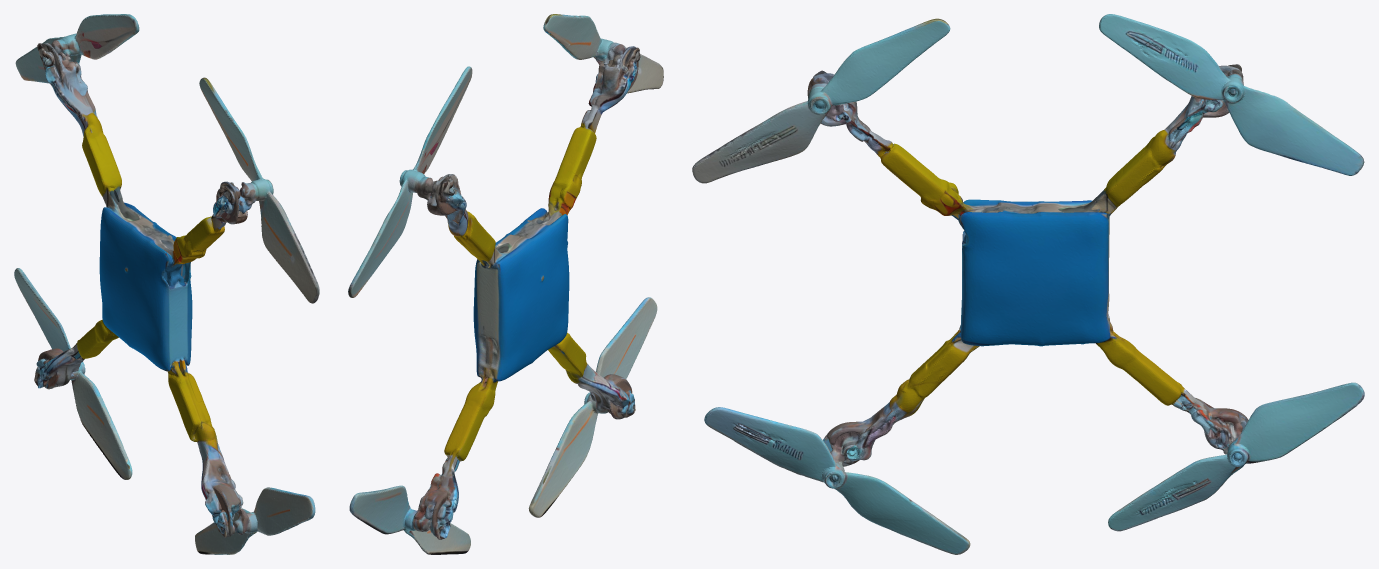
Rendered from dron.glb.
3 renders of one model, left to right at view 1: azimuth 30°, elevation 25°; view 2: azimuth 150°, elevation 25°; view 3: azimuth 270°, elevation 25°, orthographic. The views are drawn at different scales.
Visible parts, largest first — view 1: tripo_node_06c9e2ff-65fb-4d28-80da-d3fcc35646cc; view 2: tripo_node_06c9e2ff-65fb-4d28-80da-d3fcc35646cc; view 3: tripo_node_06c9e2ff-65fb-4d28-80da-d3fcc35646cc.
Boxes of the visible parts, x1,y1,x2,y2 form: tripo_node_06c9e2ff-65fb-4d28-80da-d3fcc35646cc: (14, 14, 319, 554); tripo_node_06c9e2ff-65fb-4d28-80da-d3fcc35646cc: (348, 14, 663, 554); tripo_node_06c9e2ff-65fb-4d28-80da-d3fcc35646cc: (692, 14, 1364, 554).
Size of the model in its own units: 0.0927 by 0.8869 by 1.
Materials: 1 (1 with a texture image).
